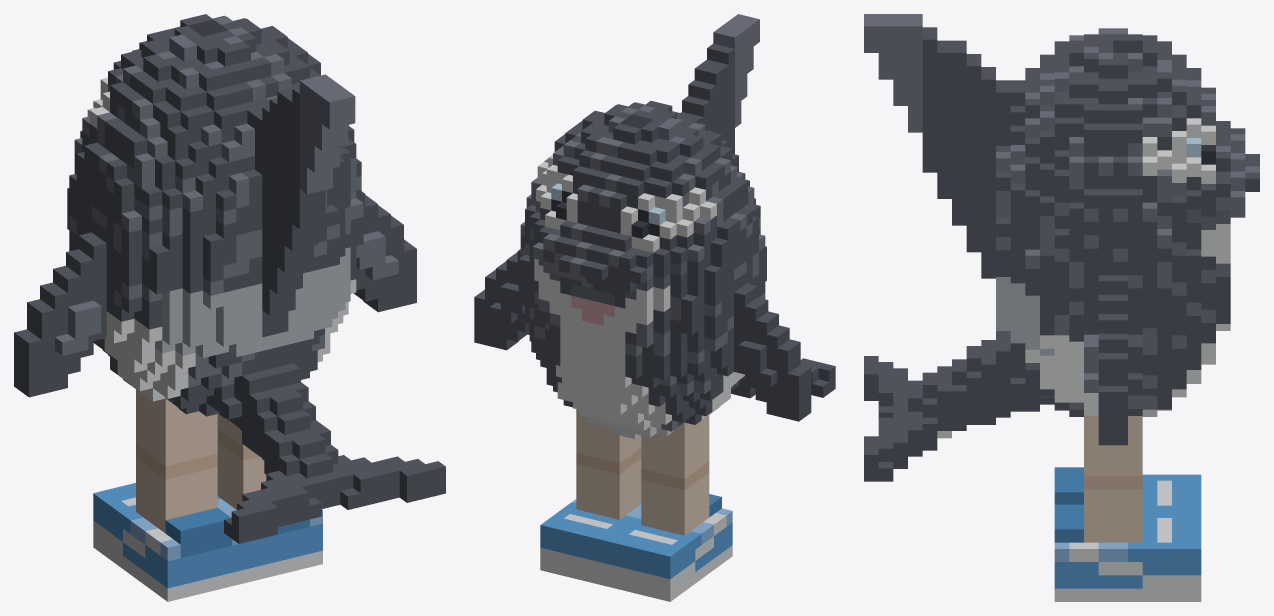
File: OrcaleroOrcala.glb
The picture shows the model from 3 angles, left to right: view 1: azimuth 30°, elevation 25°; view 2: azimuth 150°, elevation 25°; view 3: azimuth 270°, elevation 25°; orthographic projection. The views are drawn at different scales.
Visible parts, largest first — view 1: geometry_0; view 2: geometry_0; view 3: geometry_0.
Boxes of the visible parts, box(x1,y1,x2,y2) form: geometry_0: box(14, 14, 445, 601); geometry_0: box(474, 14, 835, 601); geometry_0: box(864, 14, 1259, 601).
Size of the model in its own units: 0.7317 by 1 by 0.6585.
